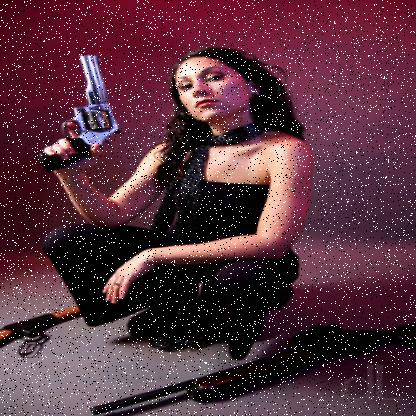pistol: (35, 53, 123, 171)
